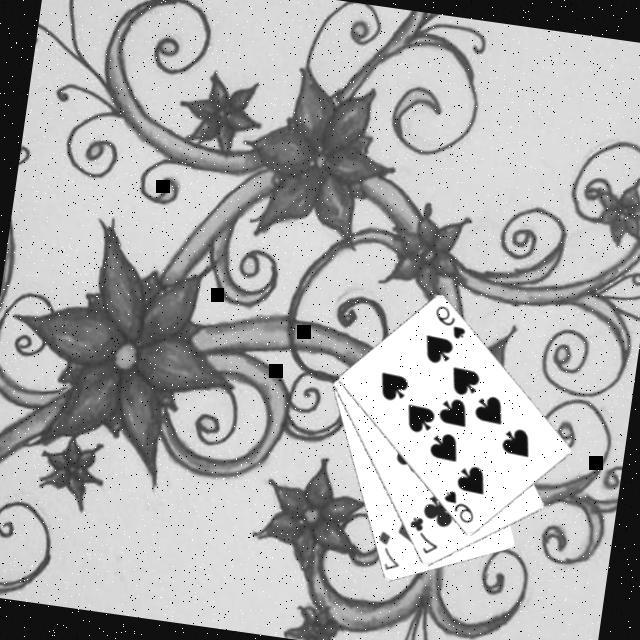7C: (403, 511, 444, 557)
7D: (370, 525, 406, 572)
9S: (437, 484, 480, 525), (428, 300, 471, 341)
